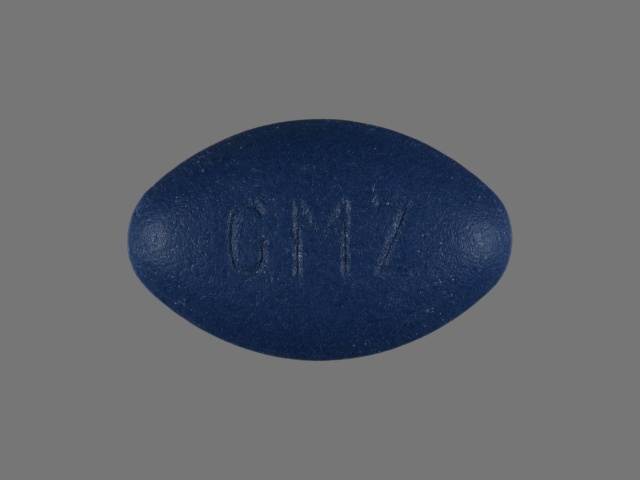C: (222, 197, 276, 278)
M: (281, 193, 355, 282)
Z: (365, 192, 419, 284)
